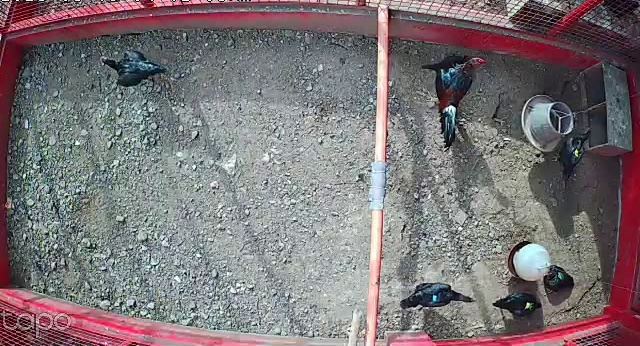Chicken: (101, 44, 169, 89), (397, 280, 478, 315), (549, 124, 593, 186), (492, 289, 544, 320), (540, 265, 576, 295)
Rooster: (424, 52, 487, 149)
Saddle_Color_Blue: (433, 294, 439, 302)
Saddle_Color_Yellow: (571, 147, 581, 157)
Saddle_Color_YellowGreen: (524, 301, 533, 311)
